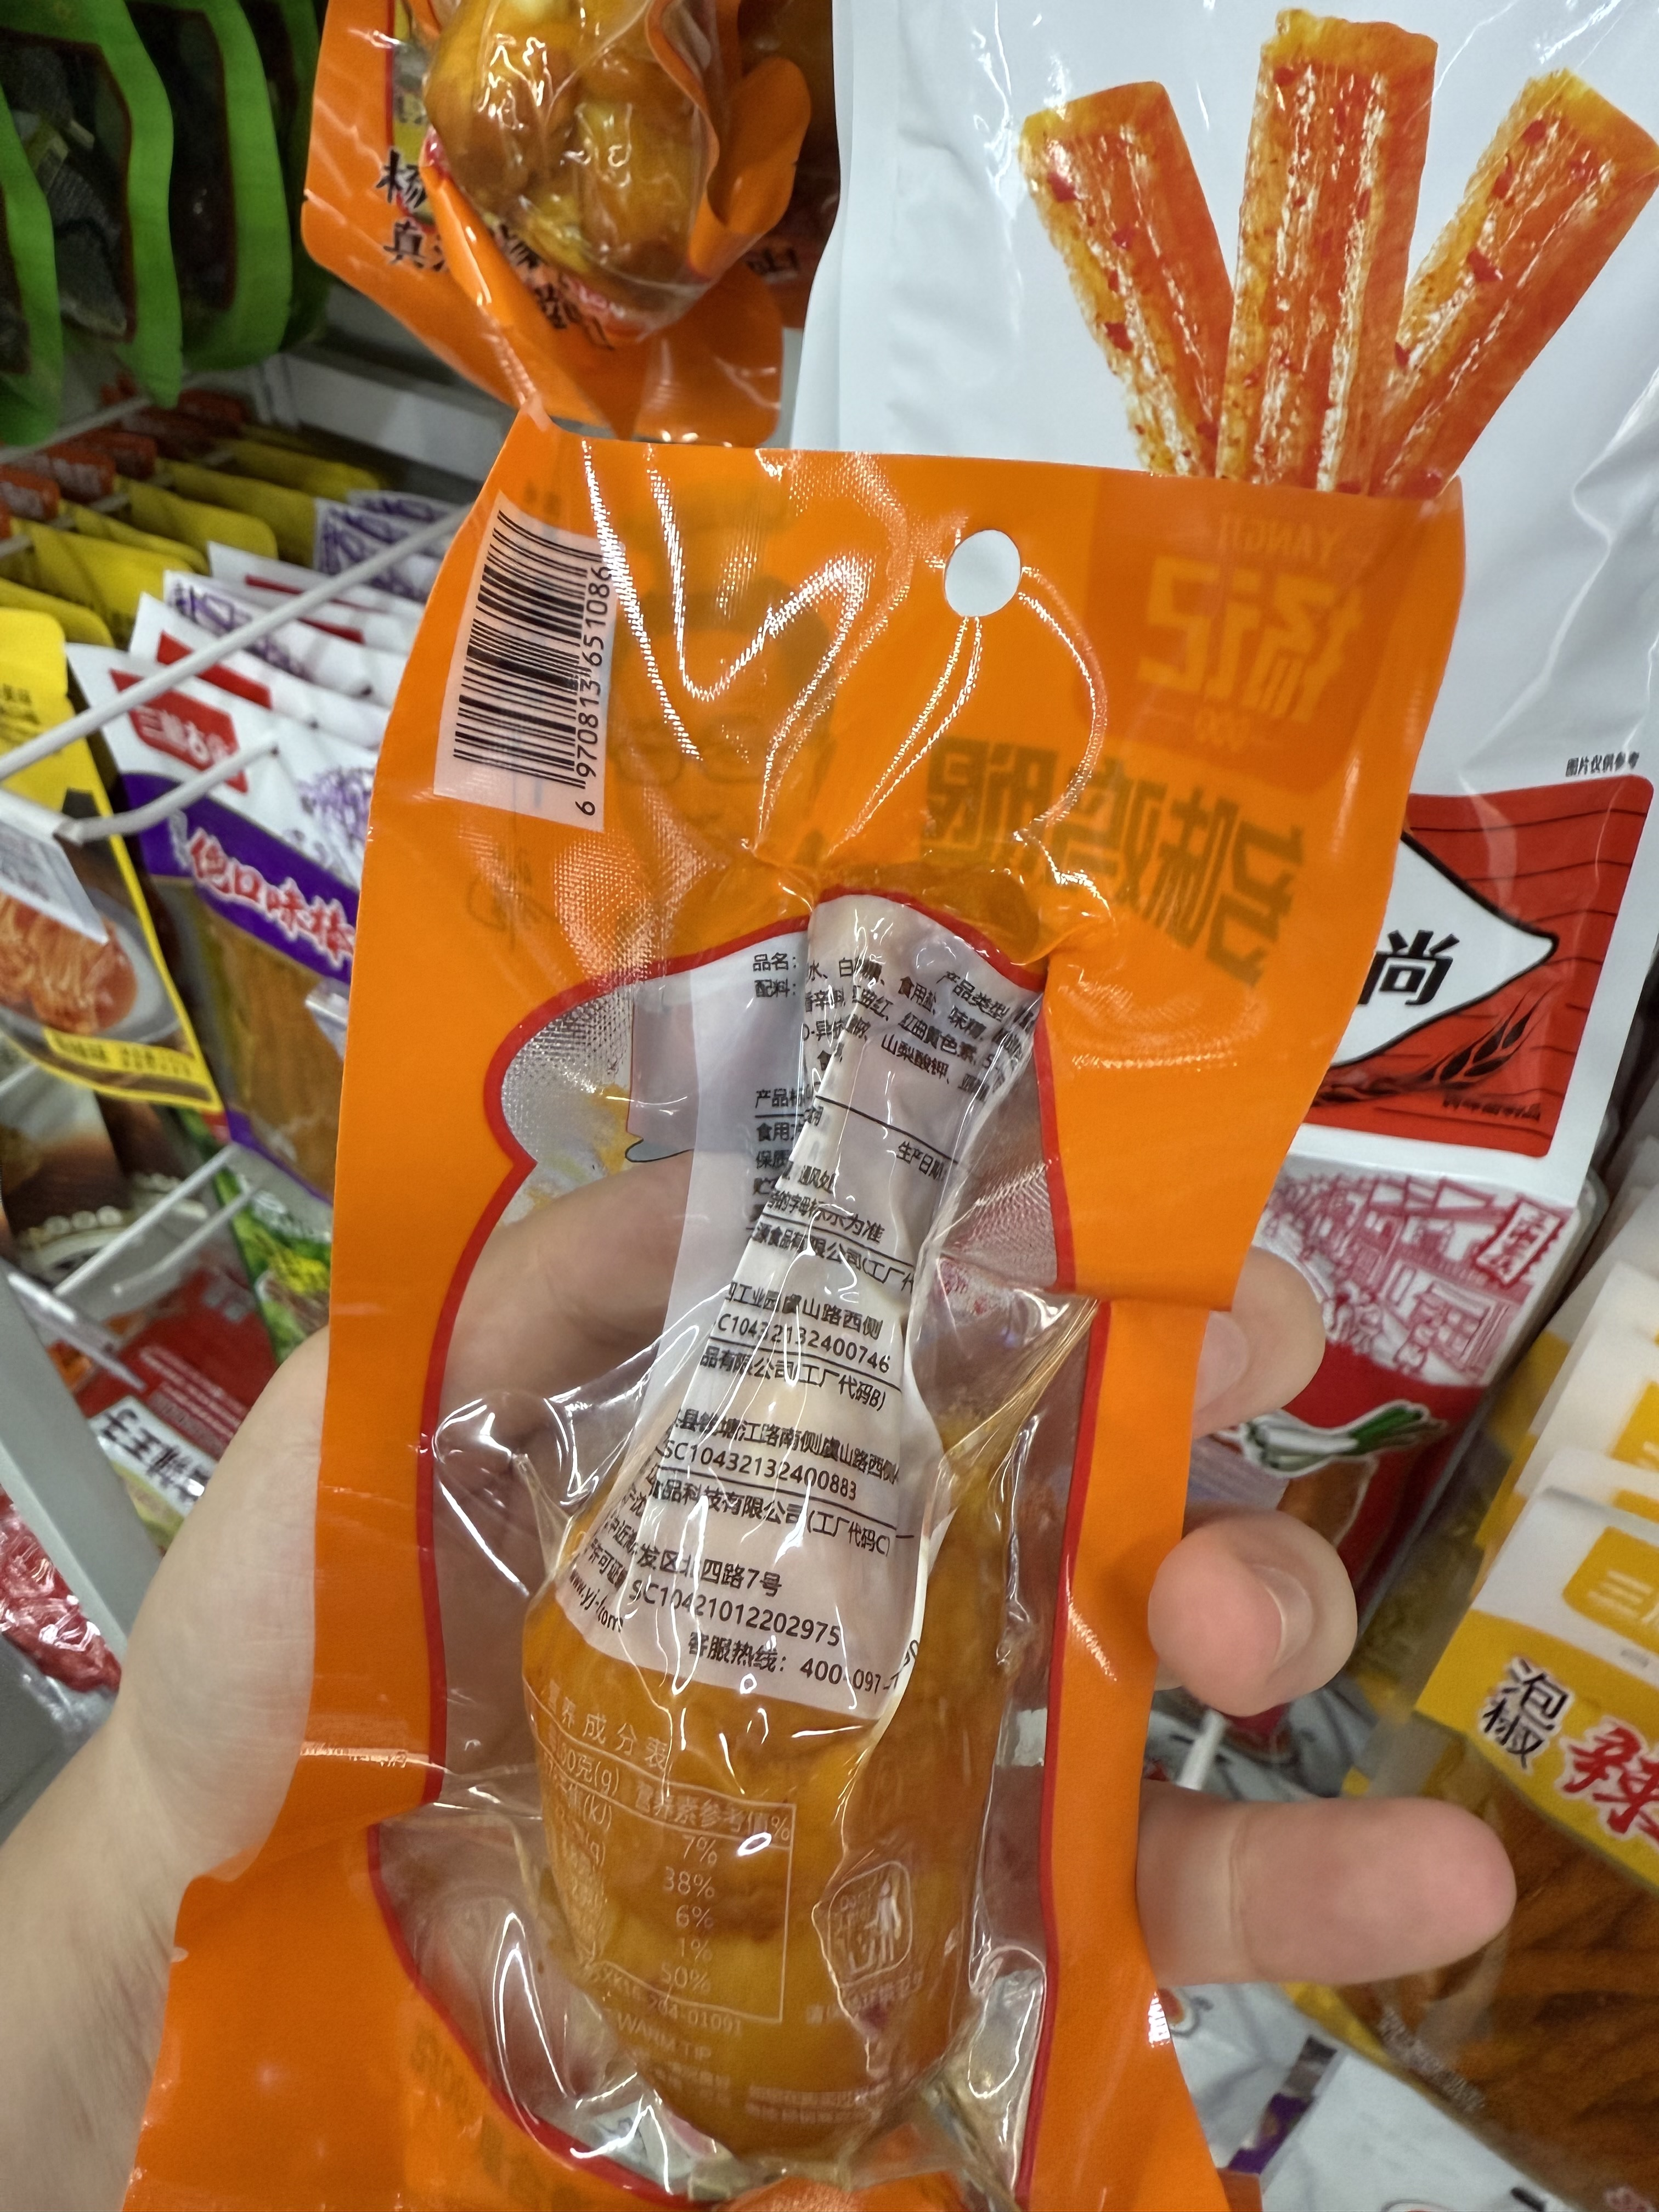bar: (443, 498, 613, 799)
